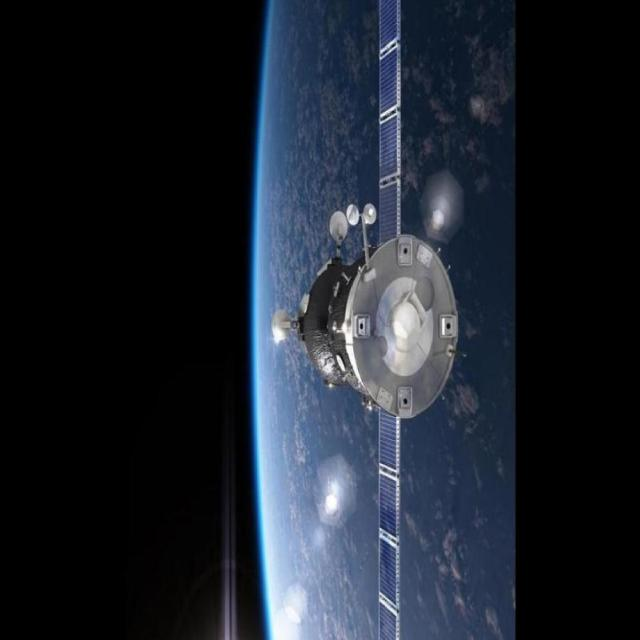medium_debris: (269, 1, 471, 640)
